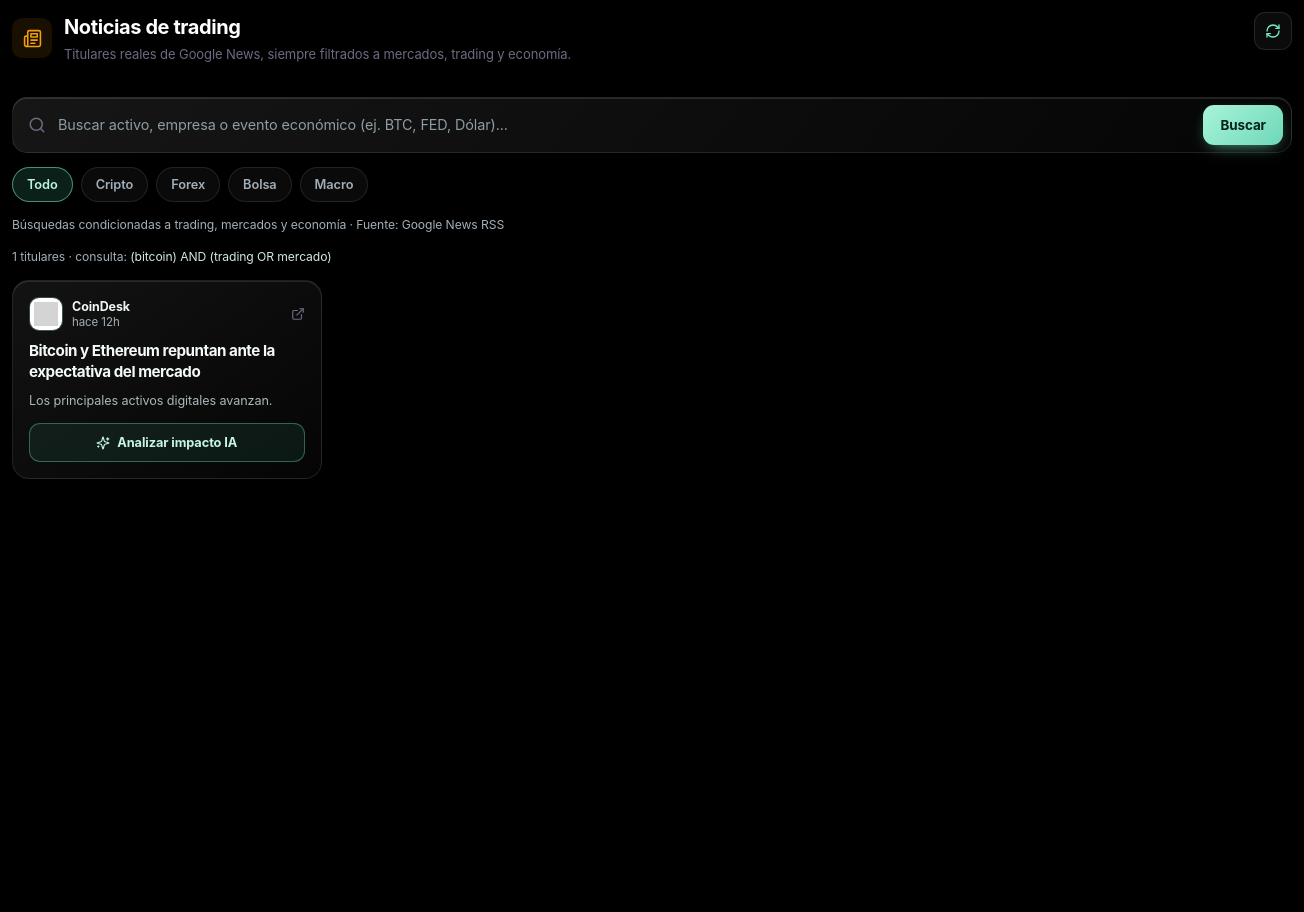
Test: Portal de noticias financieras › muestra el sentimiento y los activos del análisis IA
The image size is (1304, 912).
Click the button with aria-label "Analizar impacto IA de".
click(167, 443)  # box [29, 423, 304, 462]
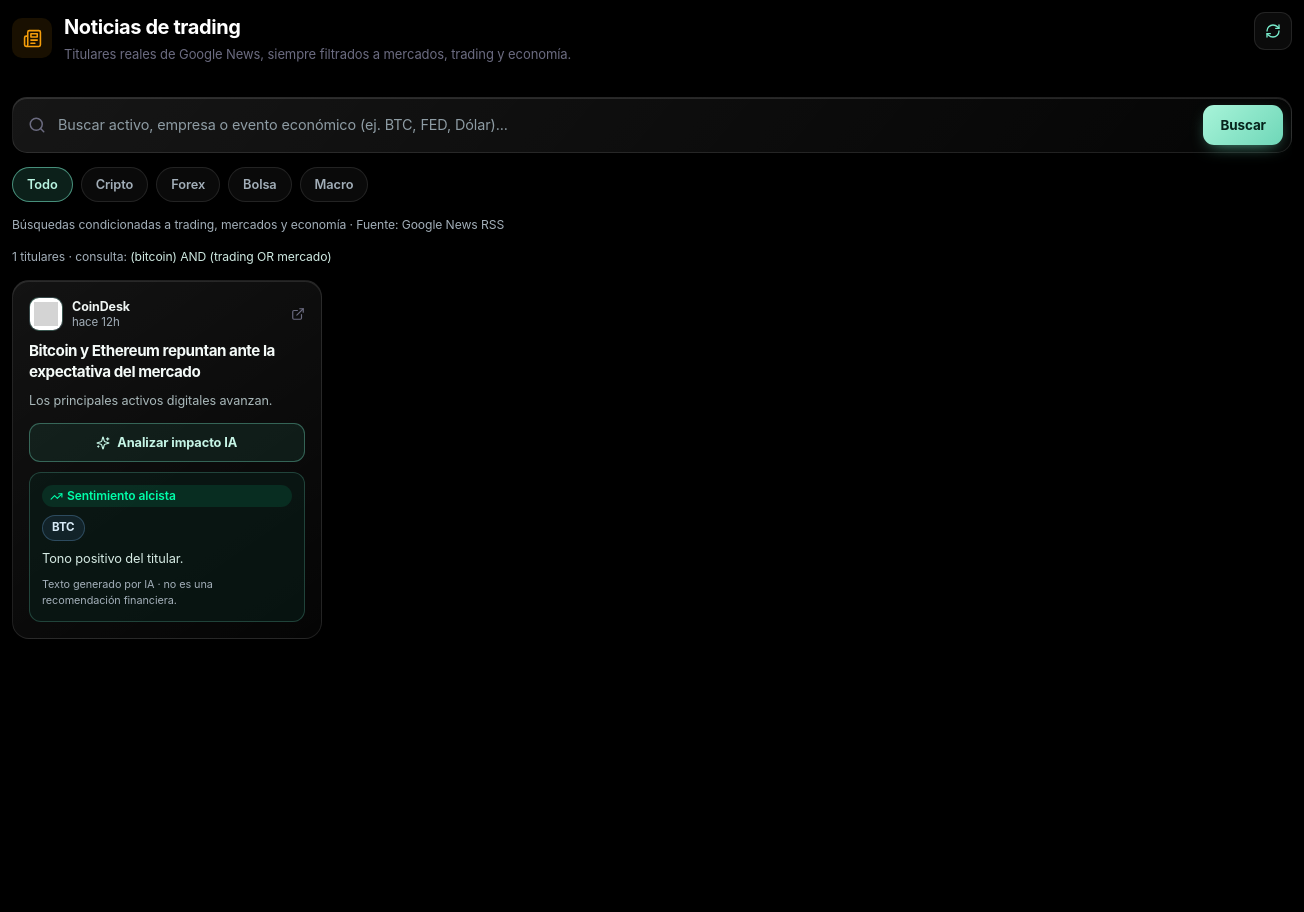
Result: the text "Sentimiento alcista" is shown at [42, 486, 292, 508]
Result: the text "BTC" is shown at [42, 516, 84, 541]
Result: the text "Tono positivo del titular." is shown at [42, 551, 183, 566]
